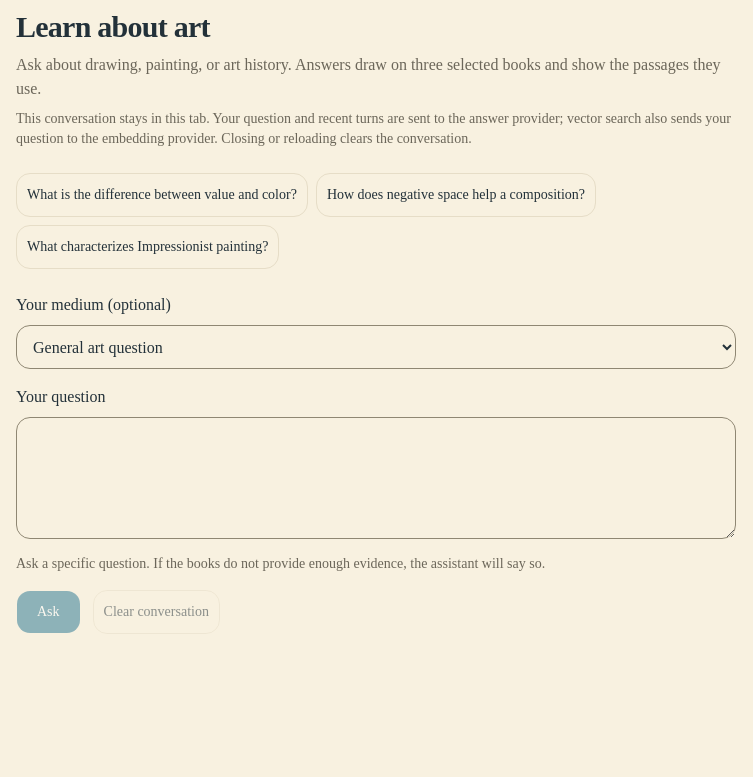
it: learning chat › shows an evidence gap without invented citations
Type "What is value?" into the text box labelled "Your question".
click(376, 478); type("What is value?")  # box [16,417,736,539]
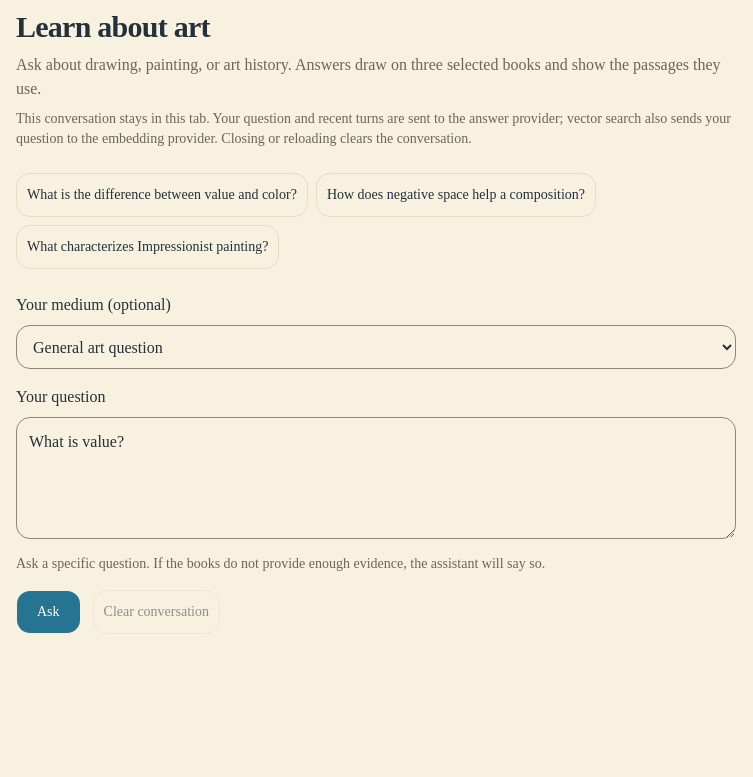
Click the button "Ask".
click(48, 612)  # box [16,590,81,634]
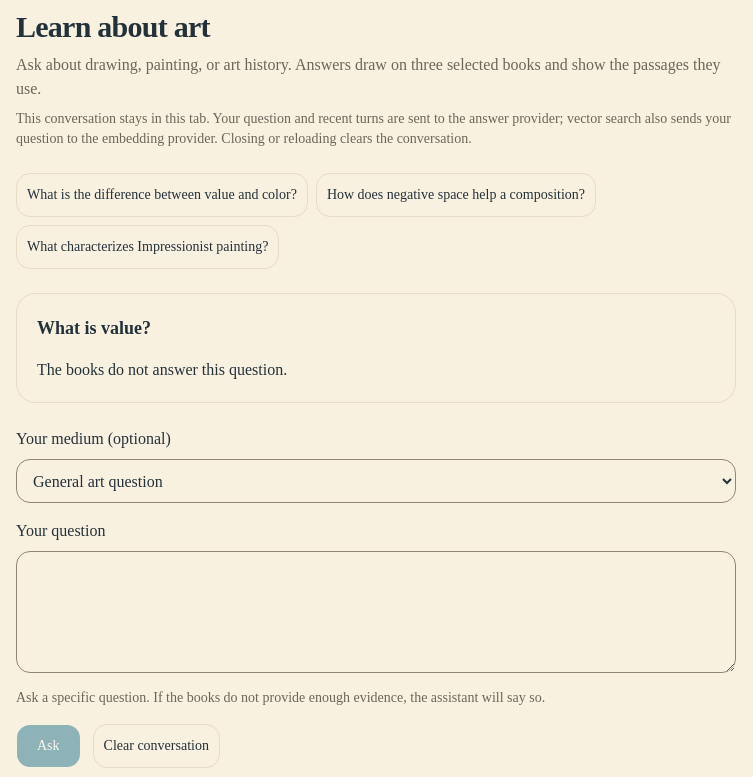
Result: the text "The books do not answer this question." is shown at [37,361,287,378]
